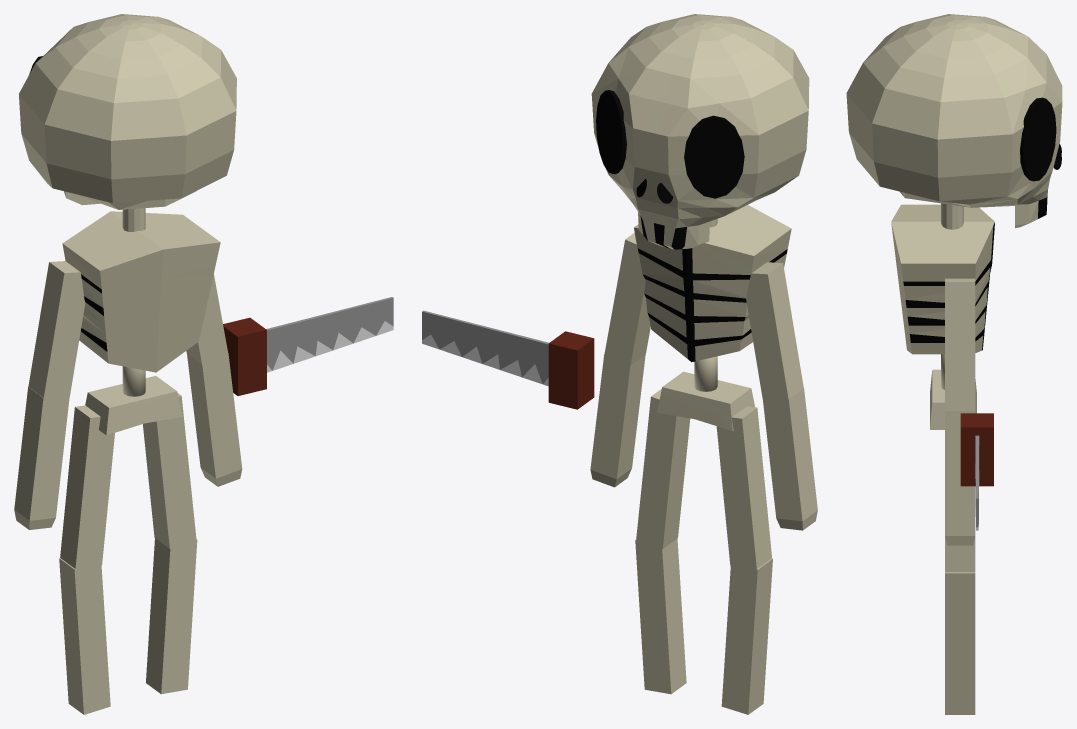
File: Скелет Рабочий с Пилой.fbx
3 views of the same model, side by side, from view 1: azimuth 30°, elevation 25°; view 2: azimuth 150°, elevation 25°; view 3: azimuth 270°, elevation 25° (orthographic).
Parts seen in each view (by area): view 1: Plane.005, Cube.076, Cube.005, Cube.004, Cube.002, Cube.037, Cube.001, Cube.003; view 2: Plane.005, Cube.076, Cube.005, Cube.004, Cube.002, Cube.001, Cube.037, Cube.003; view 3: Plane.005, Cube.076, Cube.005, Cube.001, Cube.002, Cube.037, Cube.003, Cube.004.
Boxes of the visible parts, box(x1,y1,x2,y2) form: Plane.005: box(19, 14, 236, 209); Cube.076: box(62, 208, 220, 372); Cube.005: box(59, 538, 197, 714); Cube.004: box(60, 393, 196, 568); Cube.002: box(14, 353, 242, 529); Cube.037: box(223, 297, 393, 395); Cube.001: box(28, 261, 227, 398); Cube.003: box(85, 366, 182, 435); Plane.005: box(591, 14, 809, 249); Cube.076: box(634, 205, 791, 362); Cube.005: box(635, 538, 772, 714); Cube.004: box(636, 389, 771, 569); Cube.002: box(590, 354, 817, 530); Cube.001: box(604, 233, 803, 398); Cube.037: box(422, 310, 594, 409); Cube.003: box(657, 356, 754, 430); Plane.005: box(846, 14, 1062, 228); Cube.076: box(891, 203, 994, 354); Cube.005: box(945, 572, 975, 714); Cube.001: box(945, 278, 975, 410); Cube.002: box(945, 411, 975, 545); Cube.037: box(960, 413, 993, 530); Cube.003: box(930, 354, 976, 429); Cube.004: box(945, 537, 975, 572).
Bounding box in the file's own units: 164 × 277 × 81.33.
